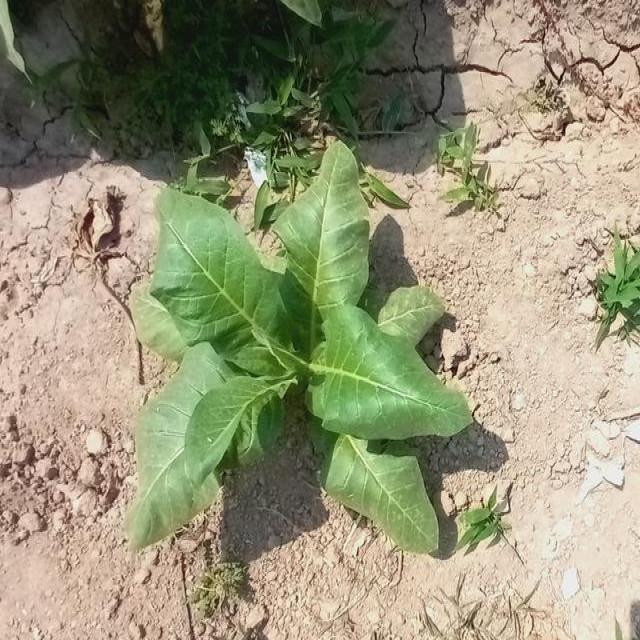crop: (128, 183, 459, 554)
